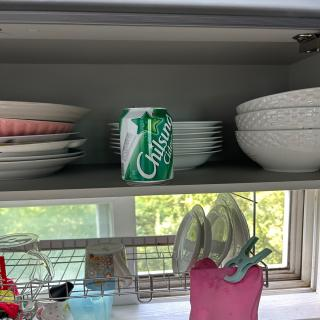cocacola: (118, 104, 176, 186)
